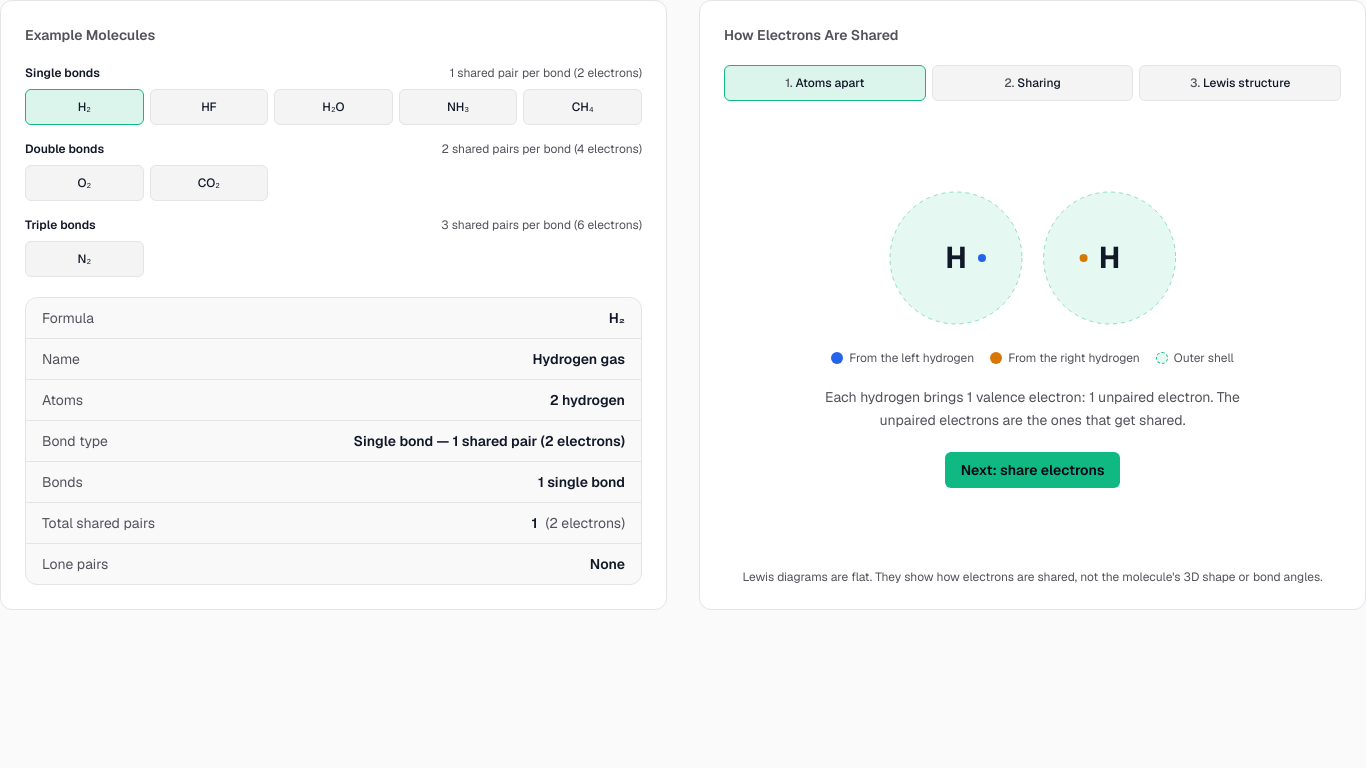
it: CovalentBondExplorer › counts one atom's outer-shell electrons during the sharing step
Expected: the element "Select an atom" is not shown
Click the button with aria-label "Water, H2O" at point(334, 107), box [274,89,393,125]
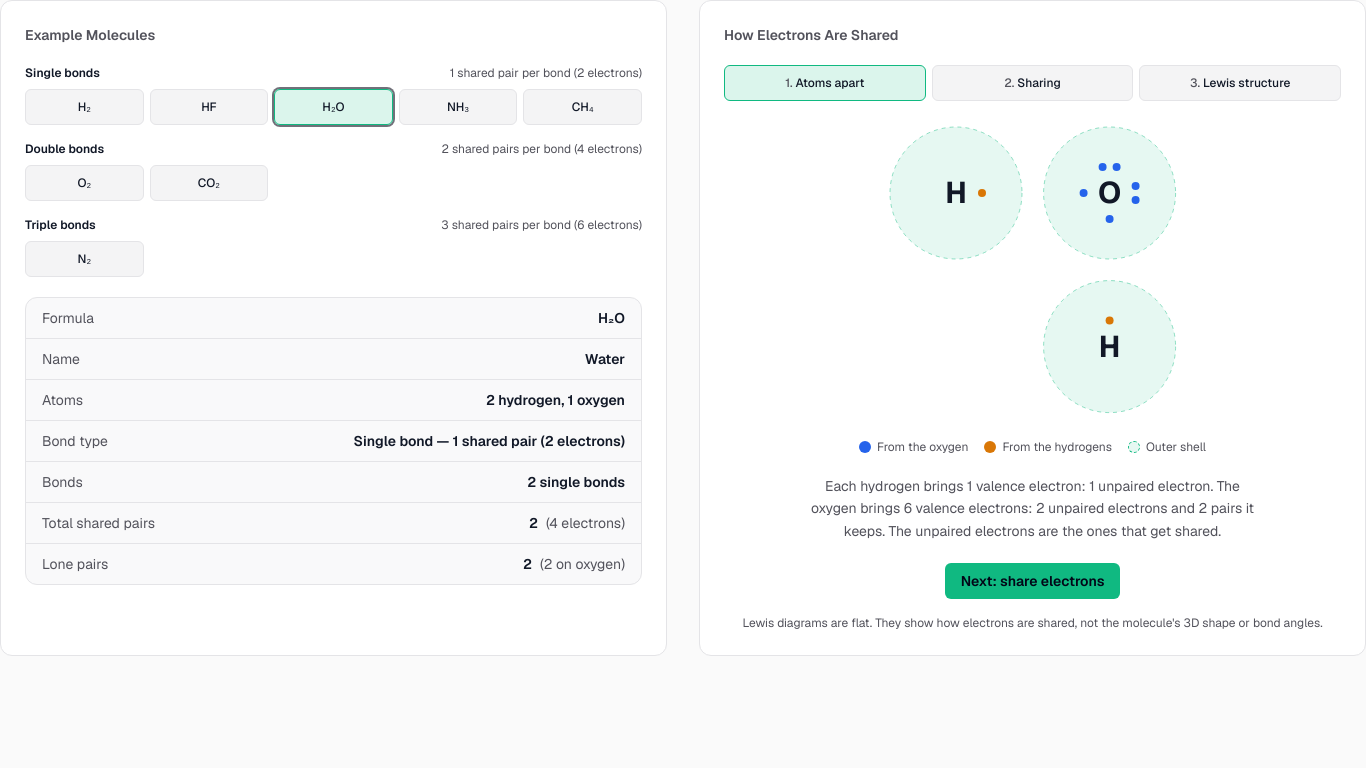
Click the button "2. Sharing" at point(1033, 83), box [932,65,1133,101]
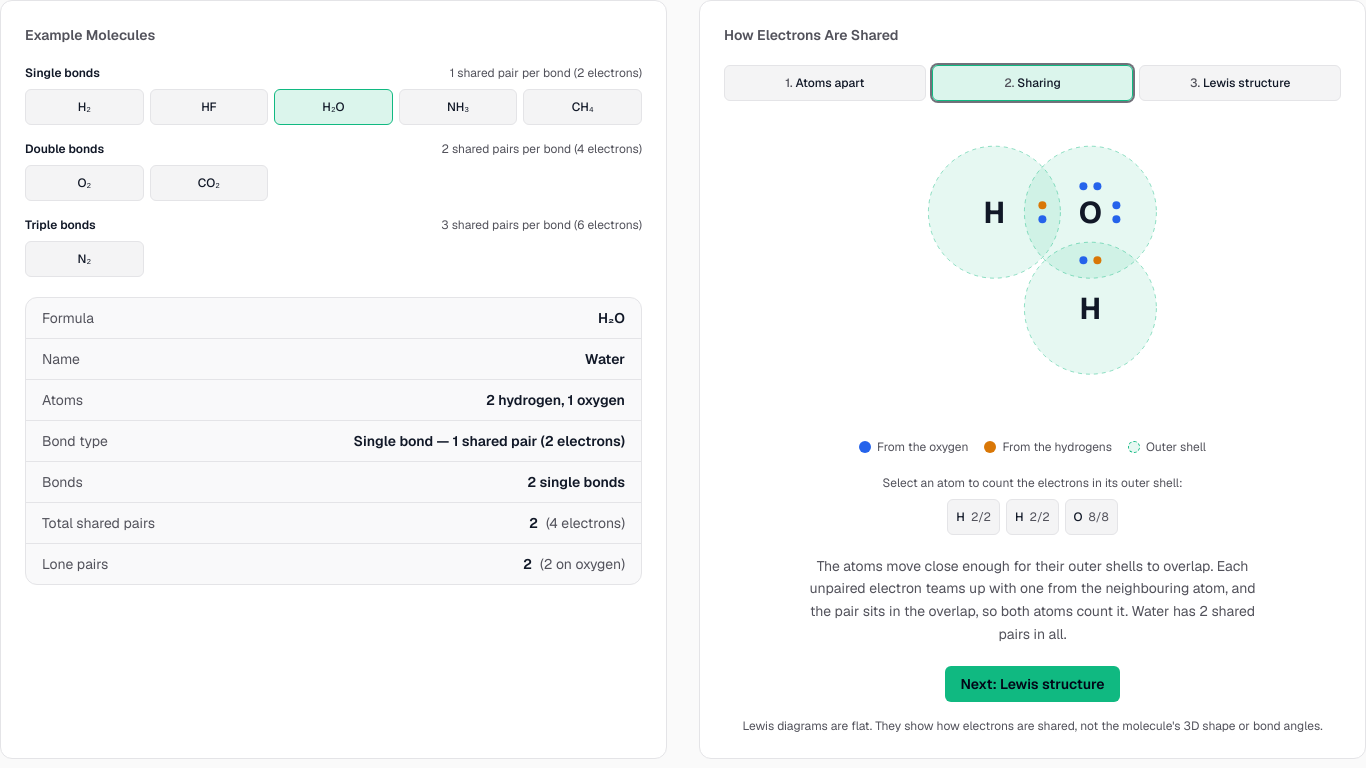
Click the button named "Oxygen: 8 of 8 electrons" at point(1091, 517), box [1065,499,1118,535]
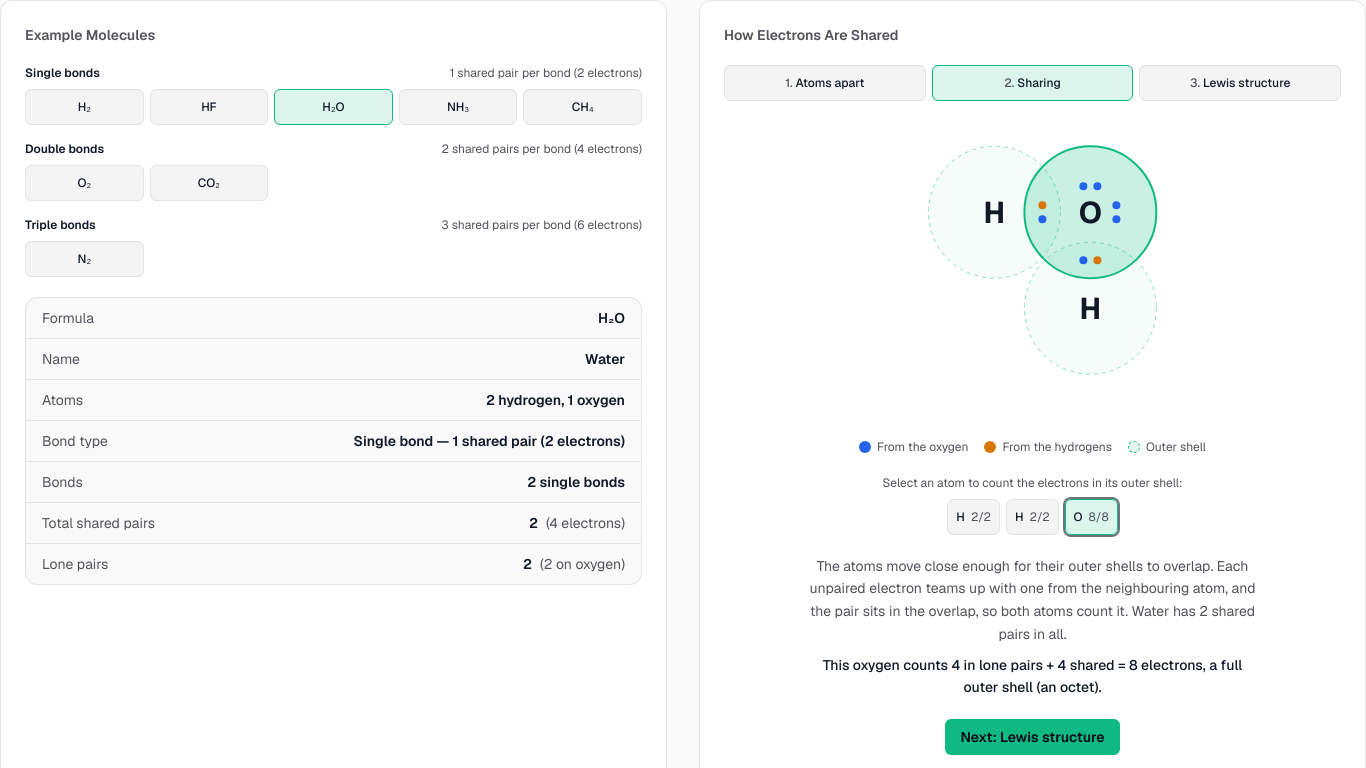
Expected: the text "This oxygen counts 4 in lone pairs + 4 shared = 8 electrons, a full outer shell (an octet)." is shown, [823,656,1242,696]
Note: Switching molecules clears the selected atom.
Click the button with aria-label "Ammonia, NH3" at point(458, 107), box [399,89,517,125]
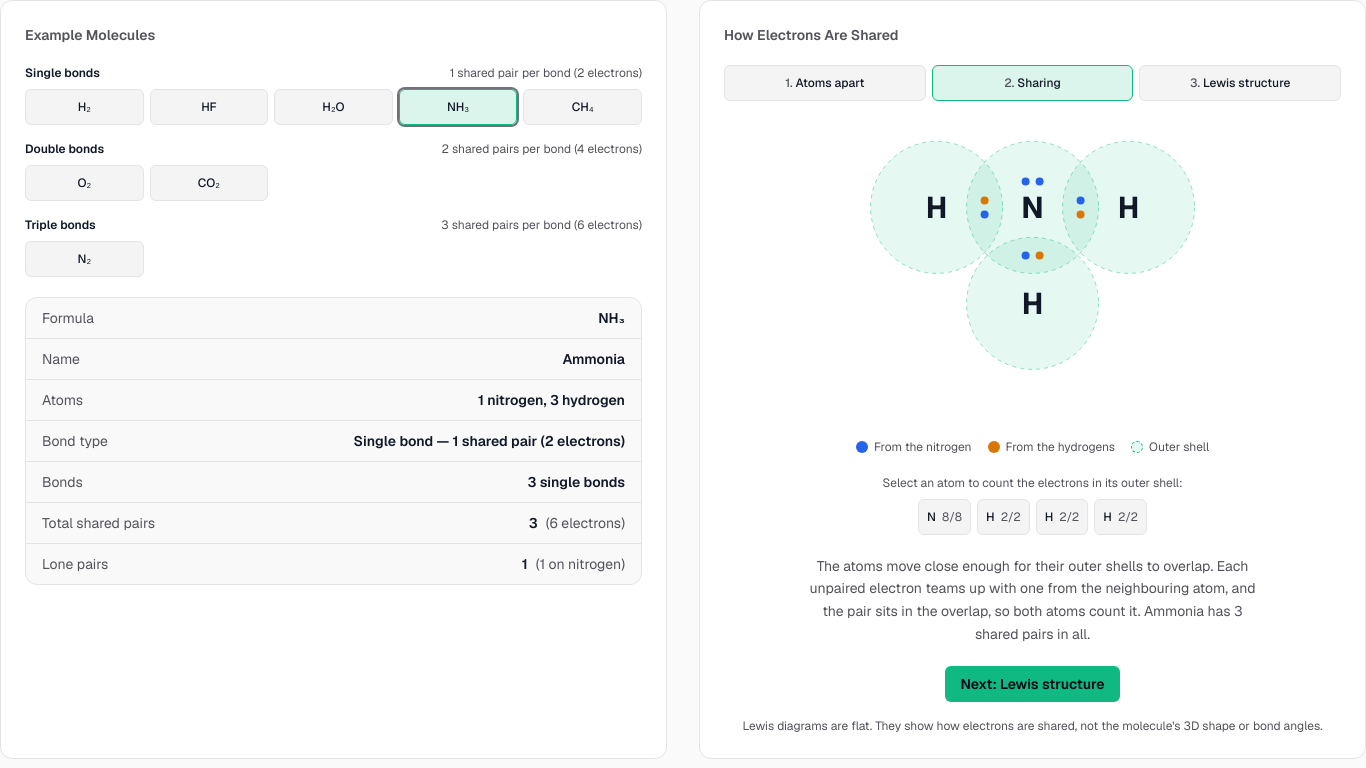
Expected: the text "This oxygen counts" is gone
